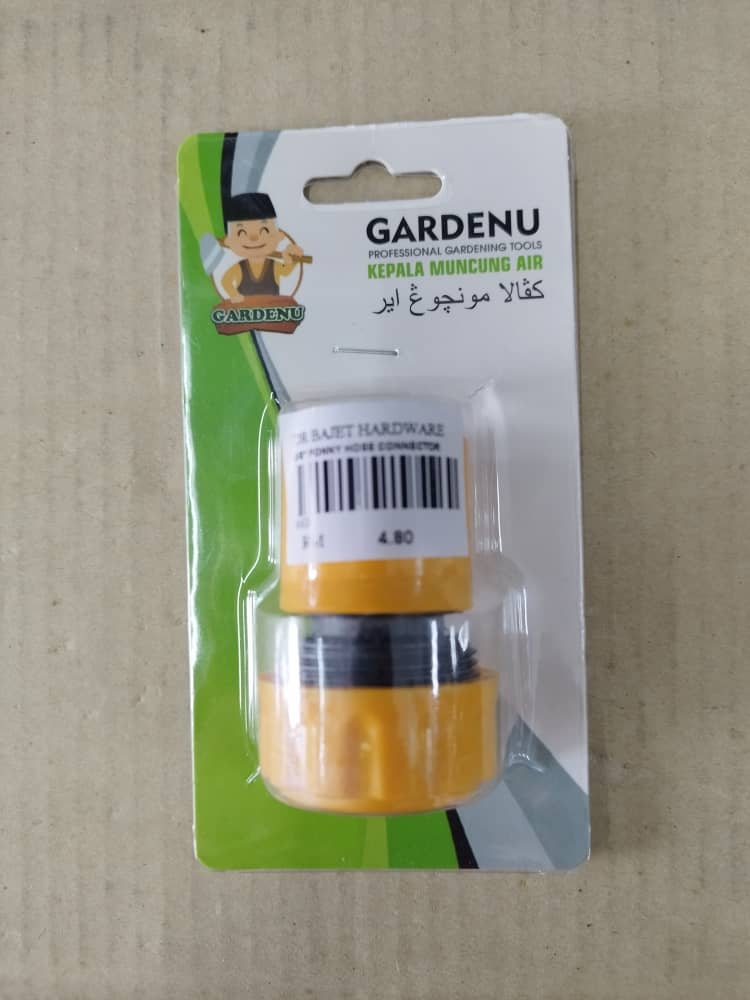sku_gardening_tool: (195, 163, 604, 887)
